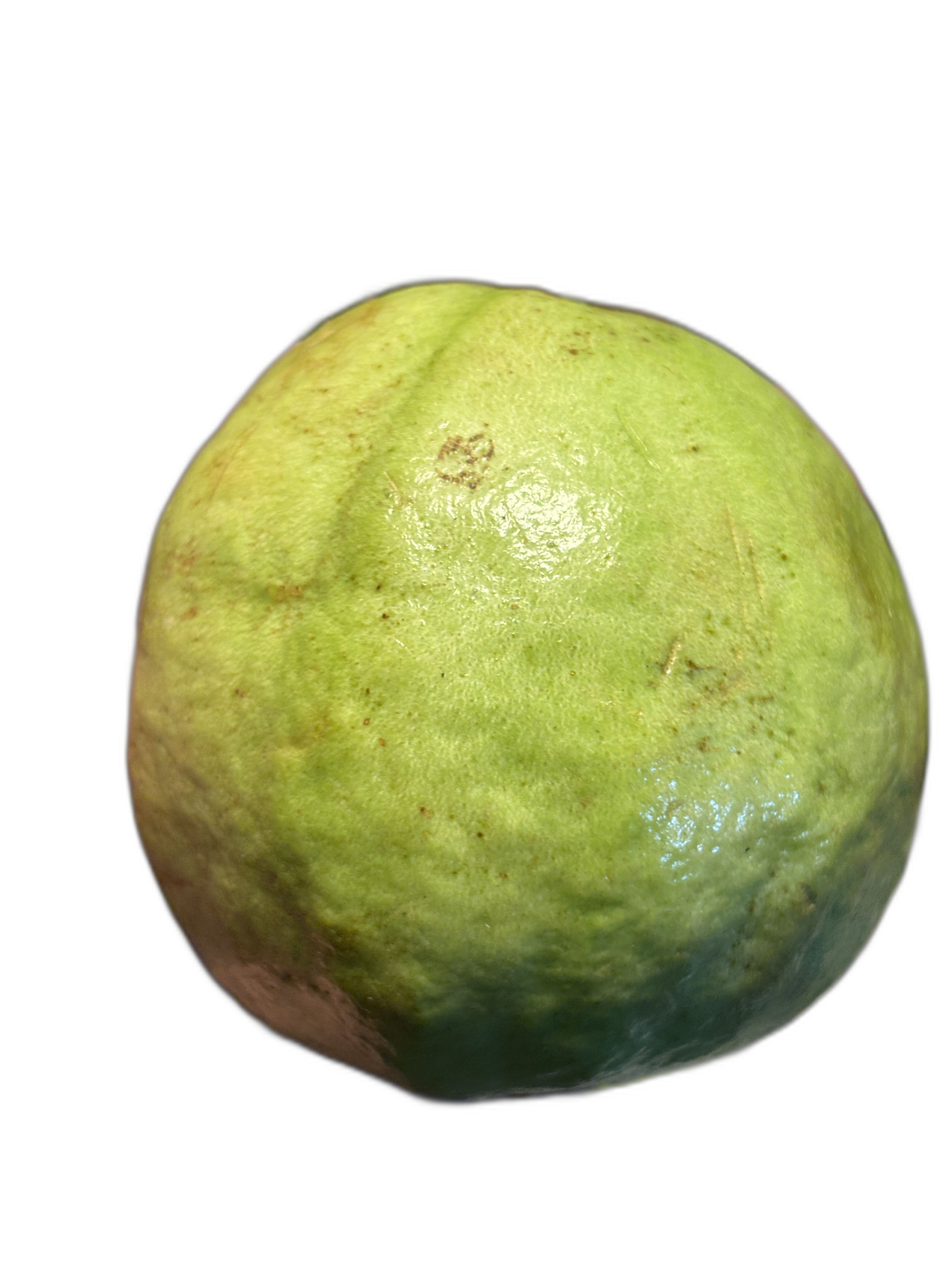guava: (210, 257, 869, 1033)
